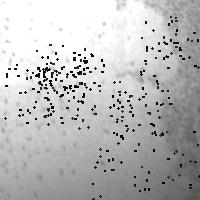pitted_surface: (3, 1, 83, 195), (134, 3, 200, 178), (43, 53, 103, 113), (140, 16, 197, 75), (38, 67, 93, 127), (113, 93, 170, 150), (32, 44, 89, 101), (92, 142, 148, 200), (109, 80, 167, 135), (0, 64, 54, 123), (161, 131, 200, 188)
